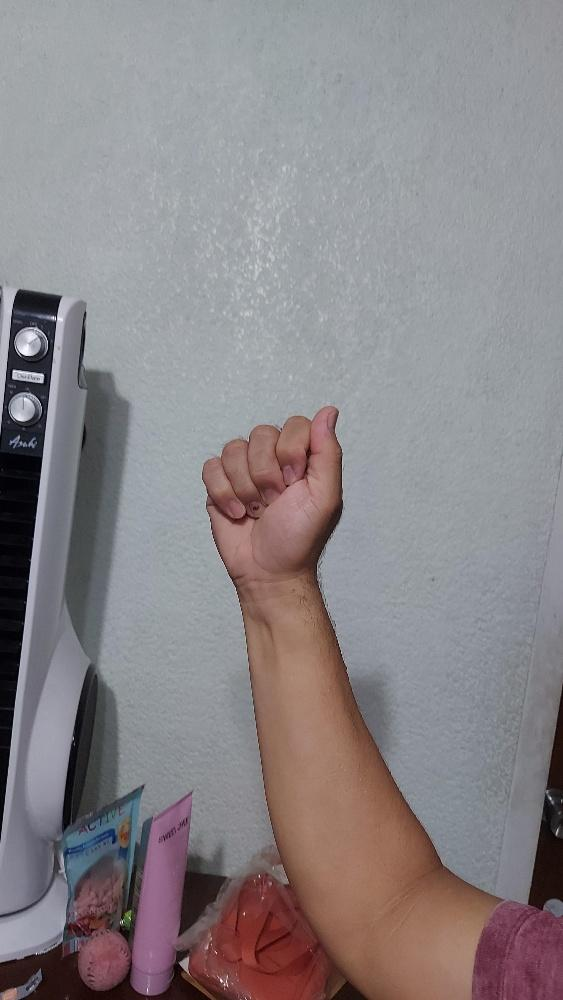a: (200, 405, 342, 581)
